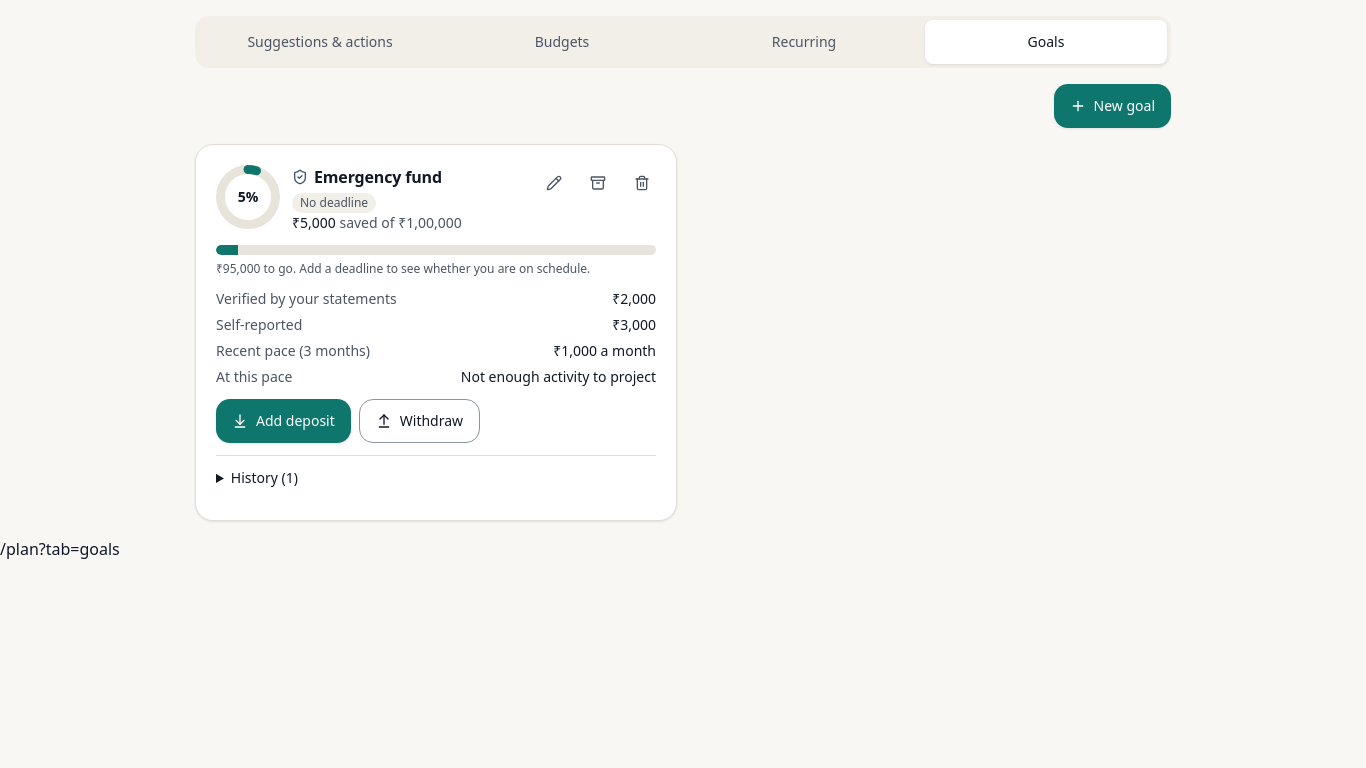
it: Goals › shows the action error when a withdrawal is refused
Click the button with aria-label "Withdraw from Emergency fund" at point(419, 421), box [359, 399, 480, 443]
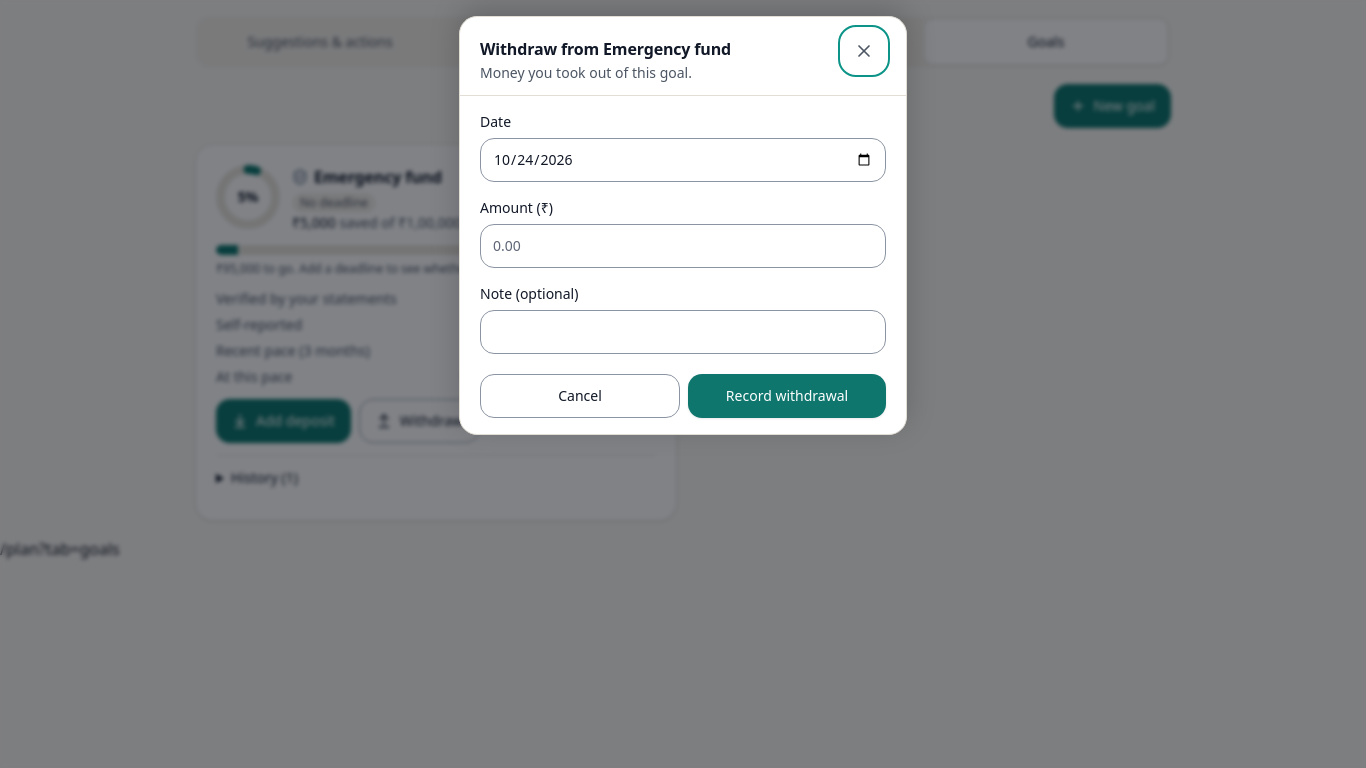
Type "9000" into the field labelled "Amount (₹)" at point(683, 246), box [480, 224, 886, 268]
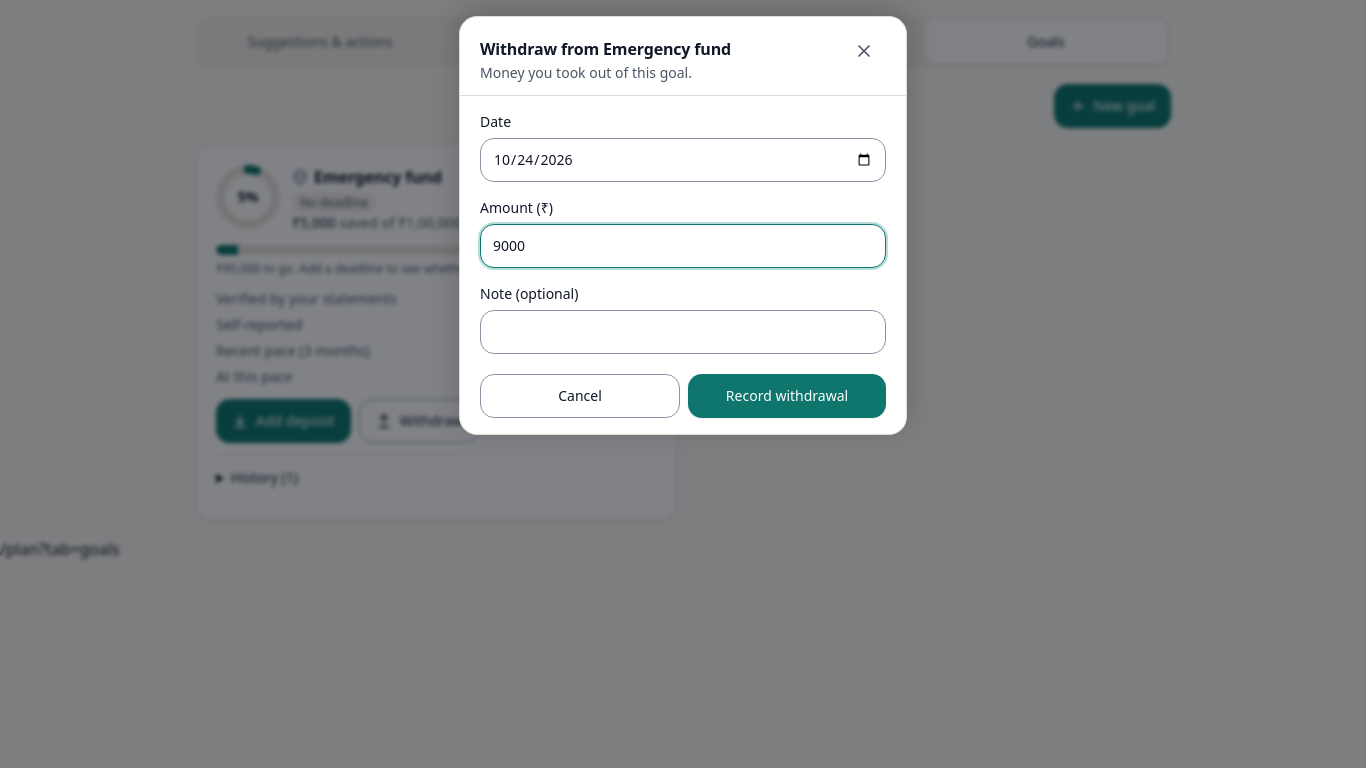
Click the button "Record withdrawal" at point(787, 396), box [688, 374, 886, 418]
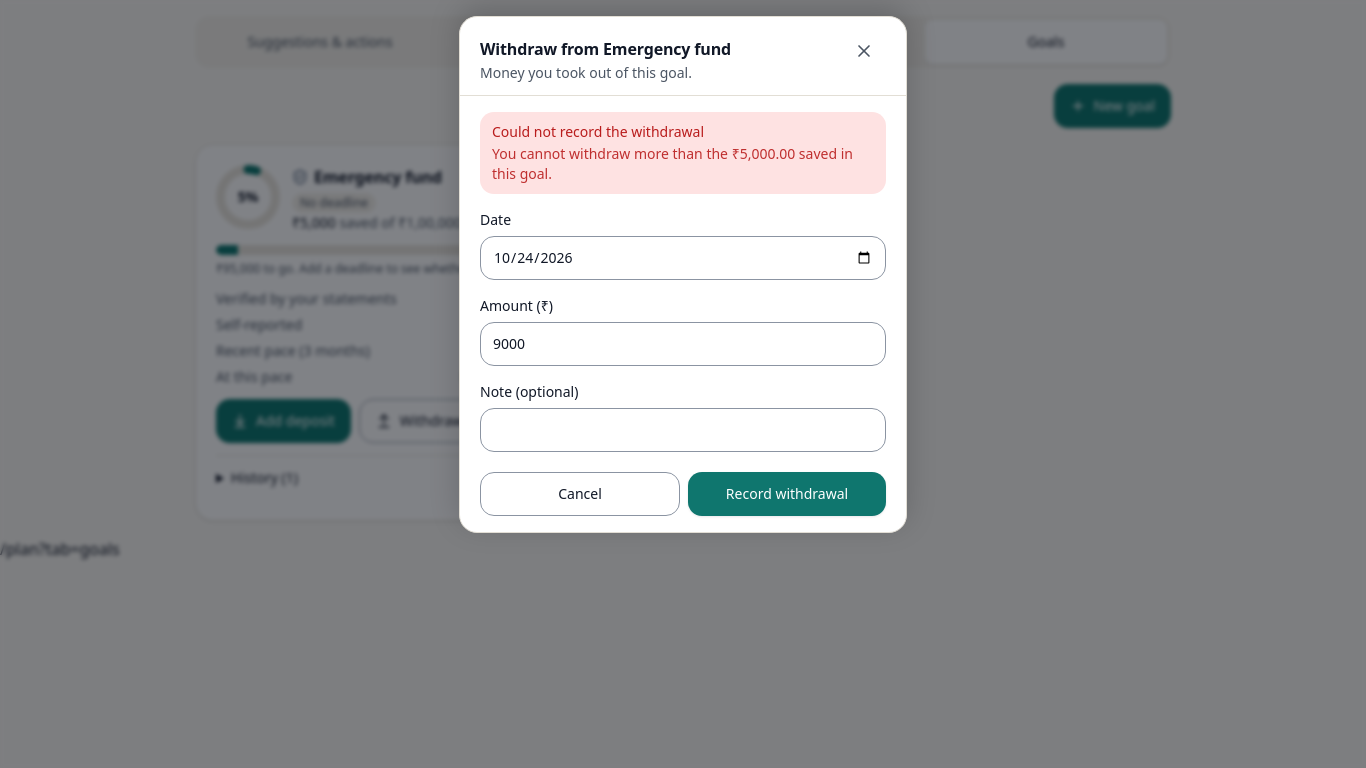
Result: the text "cannot withdraw more than" is shown at [492, 144, 853, 183]
